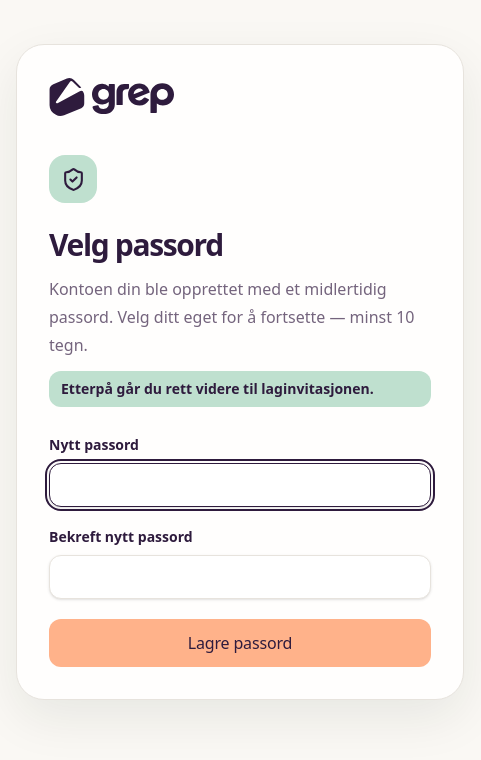
Test: forced password change › surfaces why the save failed instead of navigating away
Type "correct horse battery" into the password field labelled "Nytt passord".
click(240, 485); type("correct horse battery")  # box [49,463,431,507]
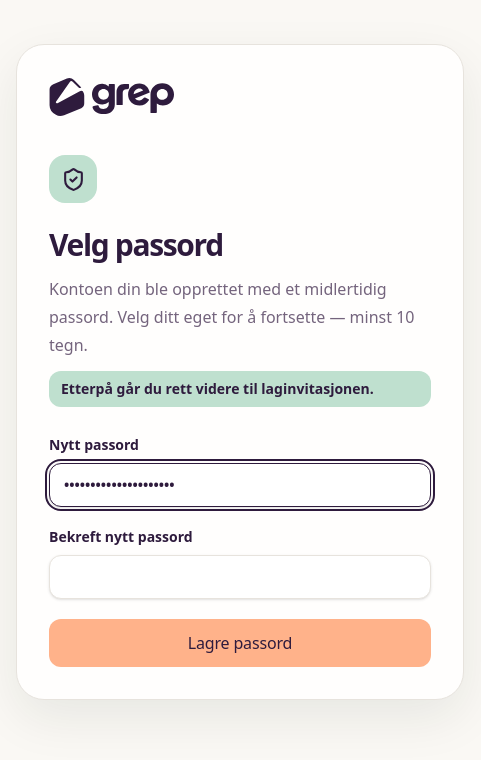
Type "correct horse battery" into the password field labelled "Bekreft nytt passord".
click(240, 577); type("correct horse battery")  # box [49,555,431,599]
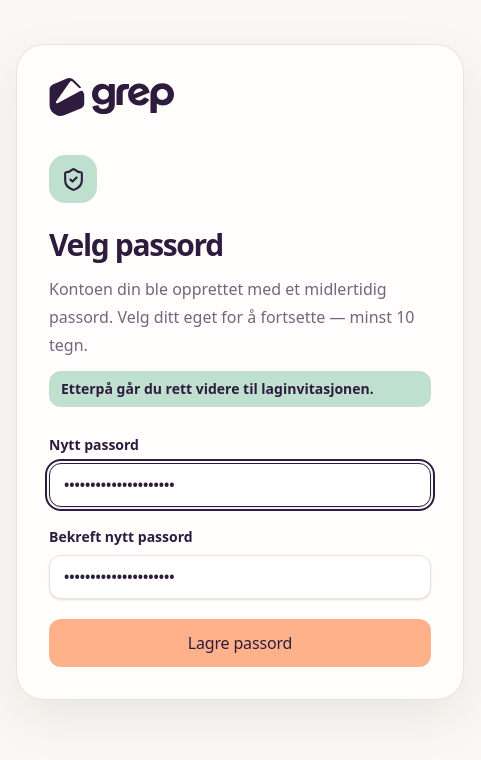
Submit the form from the button "Lagre passord", box [49,619,431,667]
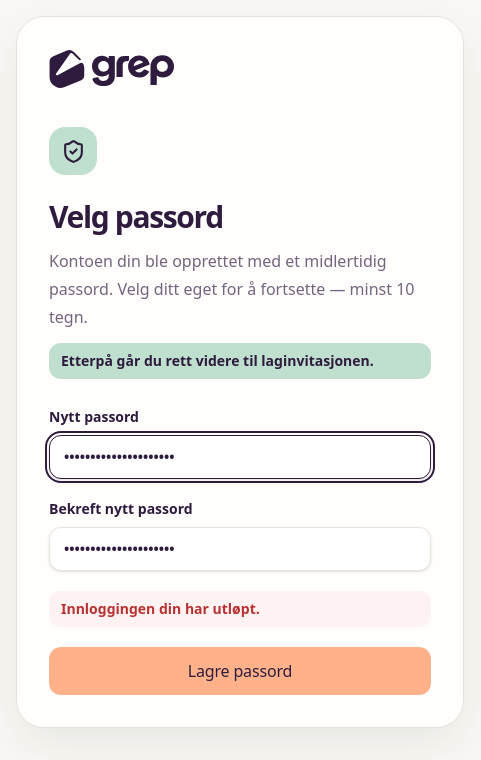
Check: the message reads "Innloggingen din har utløpt.", box [61,599,260,618]
